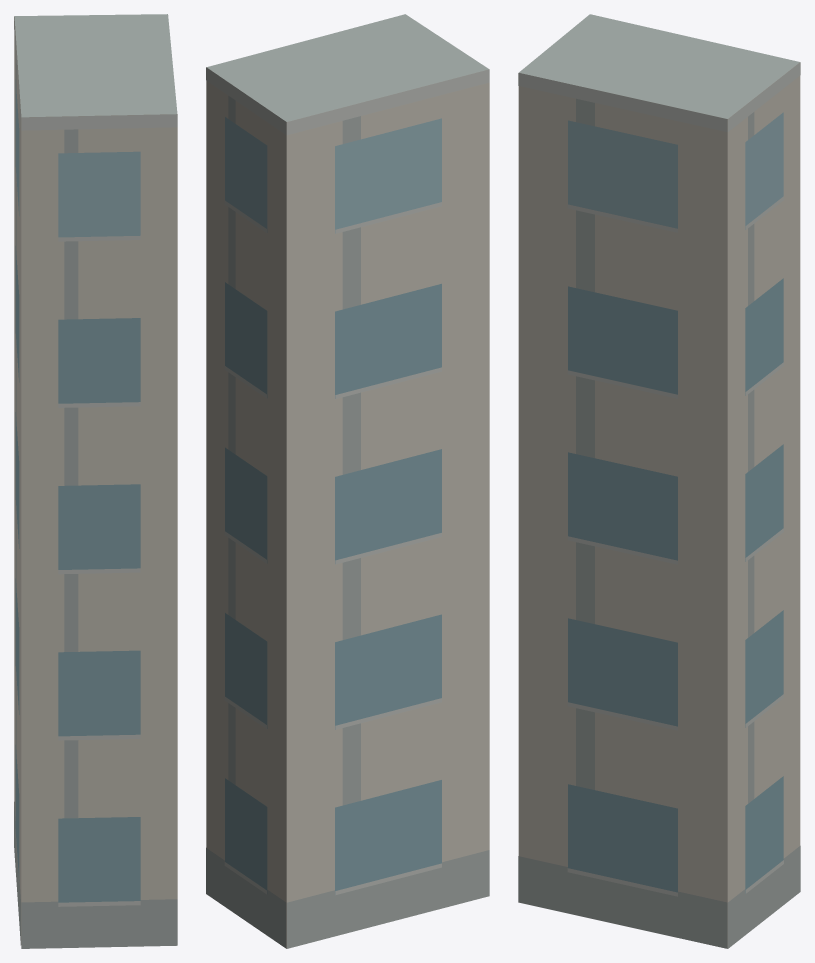
File: survey-upis-32736743.glb
3 views of the same model, side by side, from view 1: azimuth 30°, elevation 25°; view 2: azimuth 150°, elevation 25°; view 3: azimuth 270°, elevation 25° (orthographic).
Visible parts, largest first — view 1: survey-upis-32736743.tmp; view 2: survey-upis-32736743.tmp; view 3: survey-upis-32736743.tmp.
Part boxes in pixels (box(x1,y1,x2,y2)): survey-upis-32736743.tmp: box(14, 14, 177, 948); survey-upis-32736743.tmp: box(206, 14, 489, 948); survey-upis-32736743.tmp: box(518, 14, 800, 948).
Size of the model in its own units: 4.15 by 15.25 by 4.7.
